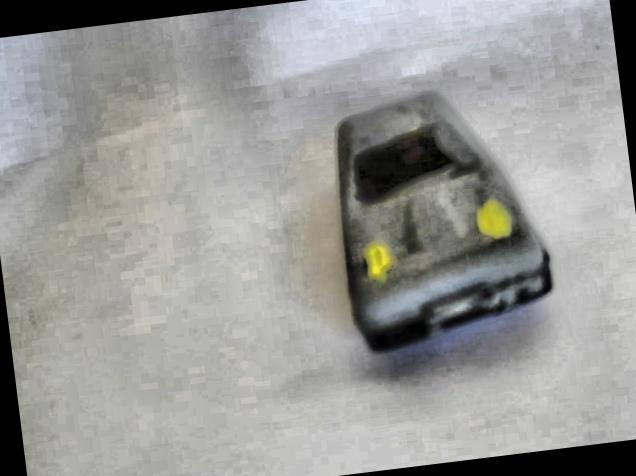normal_car: (316, 74, 564, 358)
